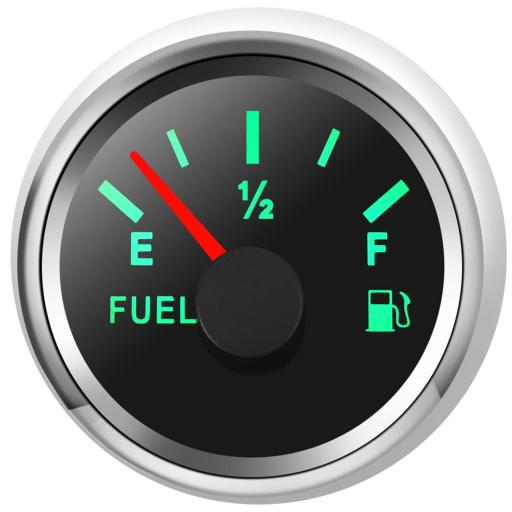empty: (126, 228, 162, 272)
fuel_icon: (363, 284, 413, 341)
full: (364, 228, 394, 272)
guage_area: (4, 7, 512, 508)
needle_center: (194, 238, 308, 355)
needle_tip: (123, 149, 157, 177)
